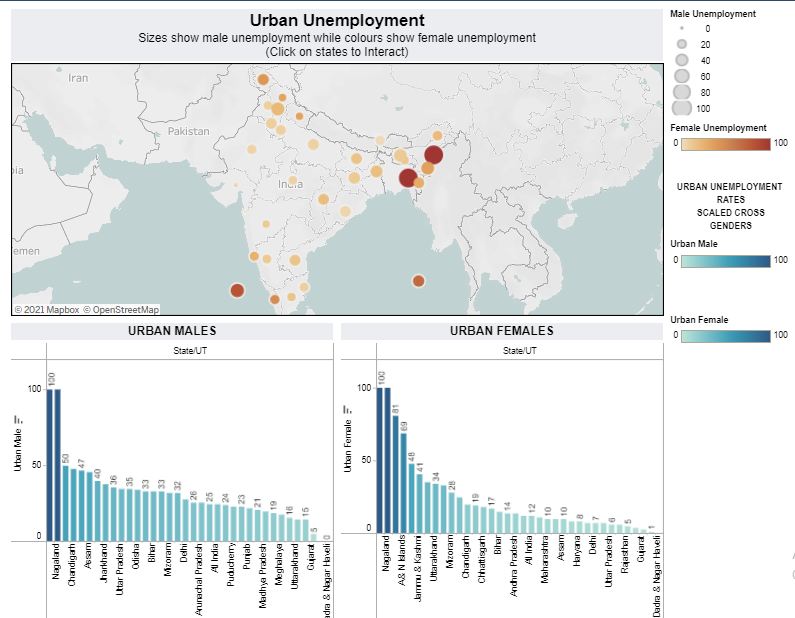

The page's visual inventory and layout, read from the dashboard file:
{"tool":"tableau","page":{"name":"Urban Final","canvas":[1000,800],"ordinal":2},"visuals":[{"type":"worksheet","box":[0,0,1000,800]},{"type":"worksheet","param":"horz","box":[8,8,984,784]},{"type":"worksheet","box":[8,8,824,784]},{"type":"worksheet","title":"Urban Map","mark":"Automatic","box":[8,8,824,392]},{"type":"worksheet","param":"vert","box":[832,8,160,784]},{"type":"worksheet","title":"Urban Map","mark":"Automatic","param":"[federated.0z87bac1dl9dl71e768y21gmz28m].[sum:Urban Male:qk]","box":[832,8,160,142]},{"type":"worksheet","title":"Urban Map","mark":"Automatic","param":"[federated.0z87bac1dl9dl71e768y21gmz28m].[sum:Urban Female:qk]","box":[832,150,160,70]},{"type":"worksheet","param":"vert","box":[832,220,160,68]},{"type":"worksheet","box":[832,220,160,68]},{"type":"worksheet","title":"URBAN MALES","mark":"Automatic","rows":["Urban Male"],"cols":["State/UT"],"param":"[federated.0z87bac1dl9dl71e768y21gmz28m].[sum:Urban Male:qk]","box":[832,288,160,94]},{"type":"worksheet","title":"Urban Female","mark":"Automatic","rows":["Urban Female"],"cols":["State/UT"],"param":"[federated.0z87bac1dl9dl71e768y21gmz28m].[sum:Urban Female:qk]","box":[832,382,160,107]},{"type":"worksheet","title":"URBAN MALES","mark":"Automatic","rows":["Urban Male"],"cols":["State/UT"],"box":[8,400,412,392]},{"type":"worksheet","title":"Urban Female","mark":"Automatic","rows":["Urban Female"],"cols":["State/UT"],"box":[420,400,412,392]}]}

Visuals, with their boxes in screenshot pixels (x1, y1, x2, y2), scaled from the page's 1000x800 canvas onto the 795x618 screenshot:
worksheet: (0, 0, 794, 617)
worksheet: (6, 6, 789, 612)
worksheet: (6, 6, 661, 612)
"Urban Map" worksheet: (6, 6, 661, 309)
worksheet: (661, 6, 789, 612)
"Urban Map" worksheet: (661, 6, 789, 116)
"Urban Map" worksheet: (661, 116, 789, 170)
worksheet: (661, 170, 789, 222)
worksheet: (661, 170, 789, 222)
"URBAN MALES" worksheet: (661, 222, 789, 295)
"Urban Female" worksheet: (661, 295, 789, 378)
"URBAN MALES" worksheet: (6, 309, 334, 612)
"Urban Female" worksheet: (334, 309, 661, 612)
